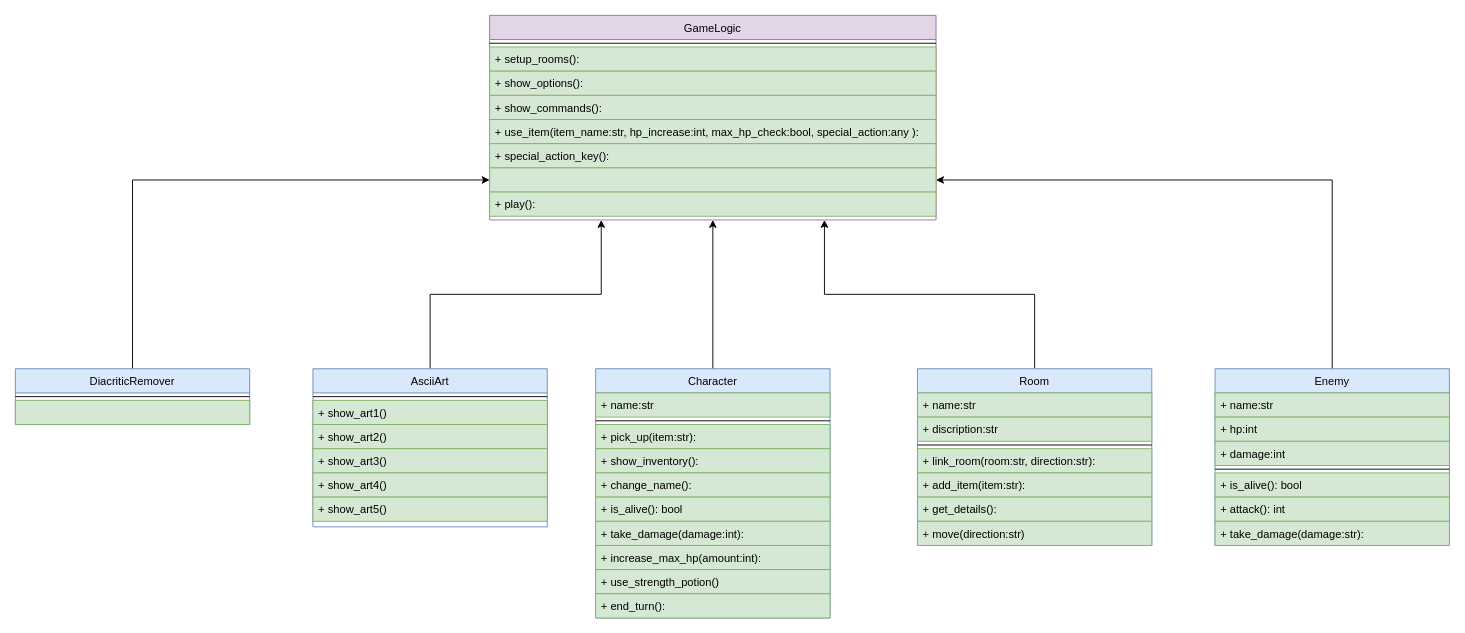
The diagram is 1465 pixels wide and 633 high, and some of its shapes have lost their labels. The shapes that lost their labels are listed below. From the top down, each one's centre as x and y in pixels, then its label:
the point at 712,179: + special_action_book():
the point at 132,412: + remove_diacritics(input_string:str): str
